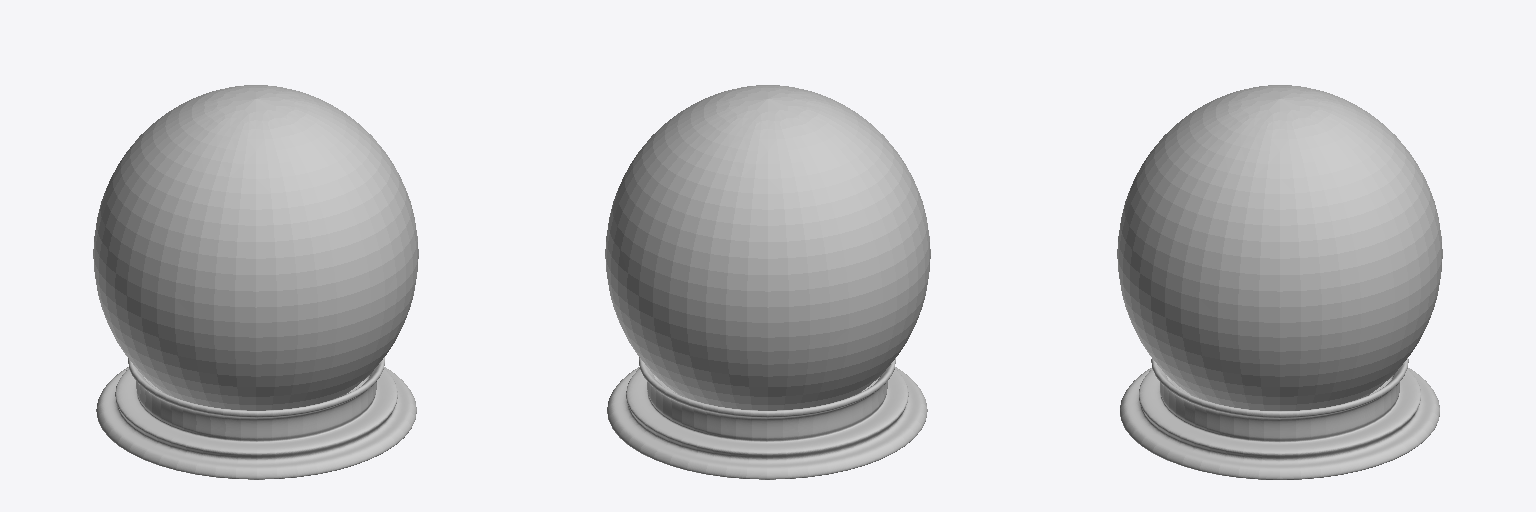
Rendered from snowglobe_.obj.
The picture shows the model from 3 angles: view 1: azimuth 30°, elevation 25°; view 2: azimuth 150°, elevation 25°; view 3: azimuth 270°, elevation 25°; orthographic projection.
Parts seen in each view (by area): view 1: snowglobe2, snowglobe; view 2: snowglobe2, snowglobe; view 3: snowglobe2, snowglobe.
Boxes of the visible parts, x1,y1,x2,y2 form: snowglobe2: [93, 85, 418, 410]; snowglobe: [96, 357, 416, 479]; snowglobe2: [605, 85, 930, 410]; snowglobe: [607, 357, 927, 479]; snowglobe2: [1117, 85, 1442, 410]; snowglobe: [1120, 358, 1439, 479].
Bounding box in the file's own units: 0.655 × 0.6975 × 0.655.